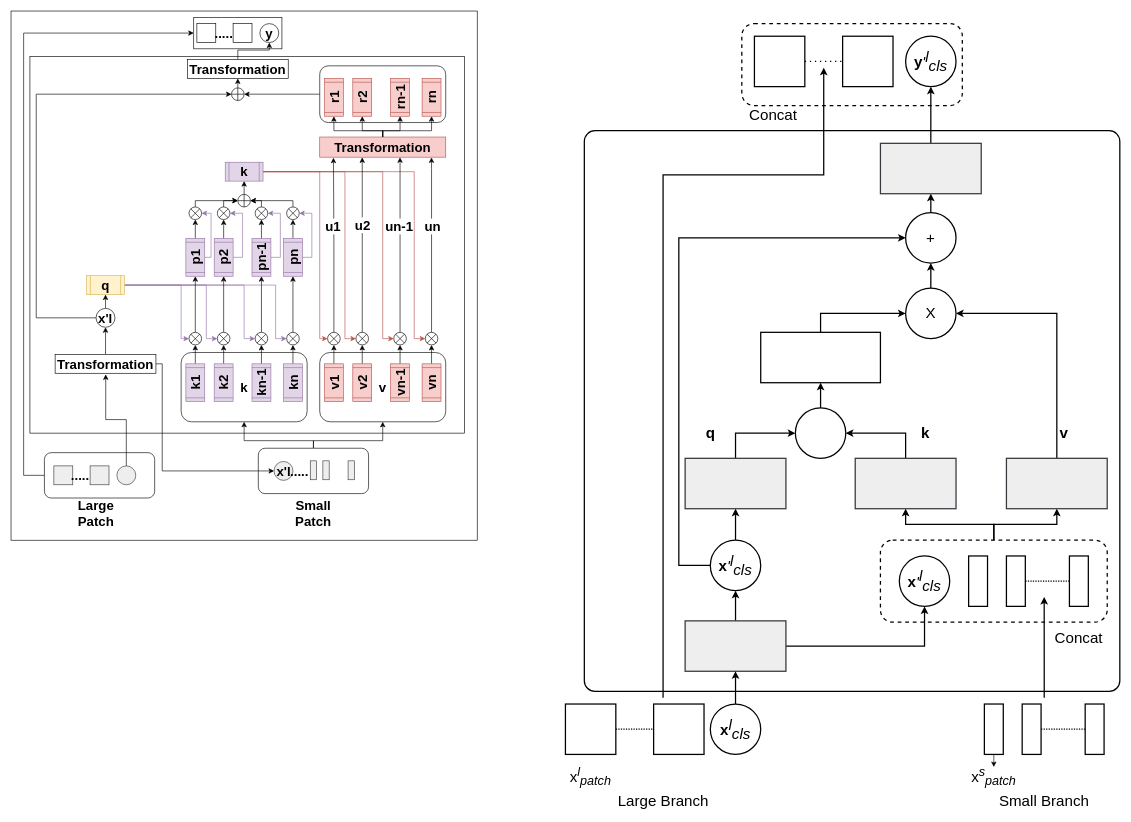
The diagram is 1131 pixels wide and 822 high, and some of its shapes have lost their labels. The shapes that lost their labels are listed below. From the top down, each one's box as (x1, y1, x2, y2) in pixels, then its label:
(879, 142, 982, 194): g l (.)
(760, 331, 881, 383): Softmax
(116, 465, 136, 485): xl
(684, 457, 786, 509): W q
(854, 457, 956, 509): W k
(1005, 457, 1108, 509): W v
(684, 620, 786, 672): f l (.)
